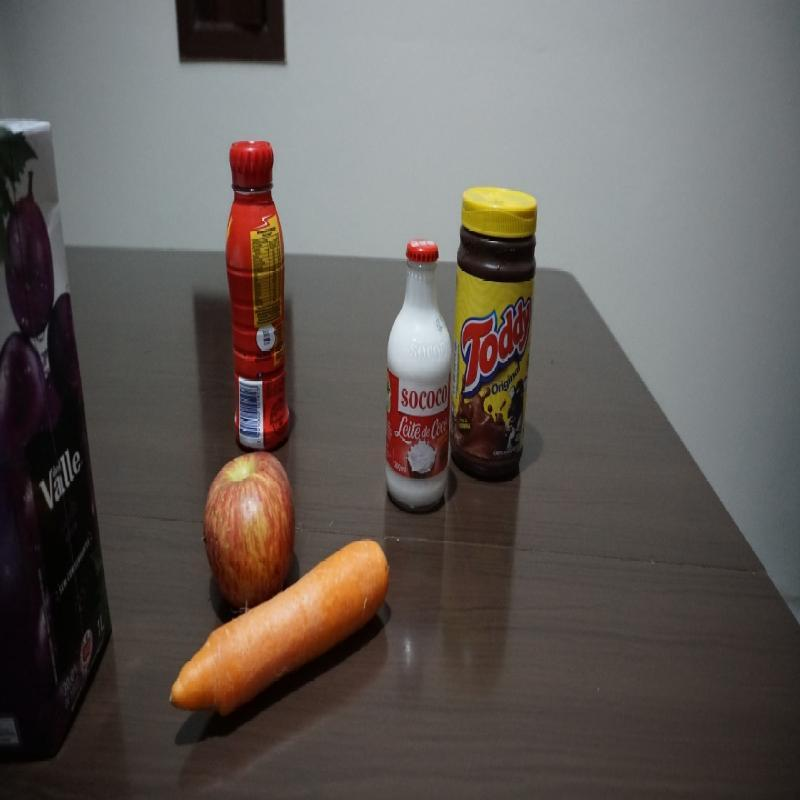Apple: (203, 447, 288, 580)
Carrot: (163, 587, 391, 714)
Chocolate Milk: (224, 137, 294, 445)
Chocolate Powder: (457, 187, 538, 479)
Coconut Milk: (386, 234, 455, 508)
